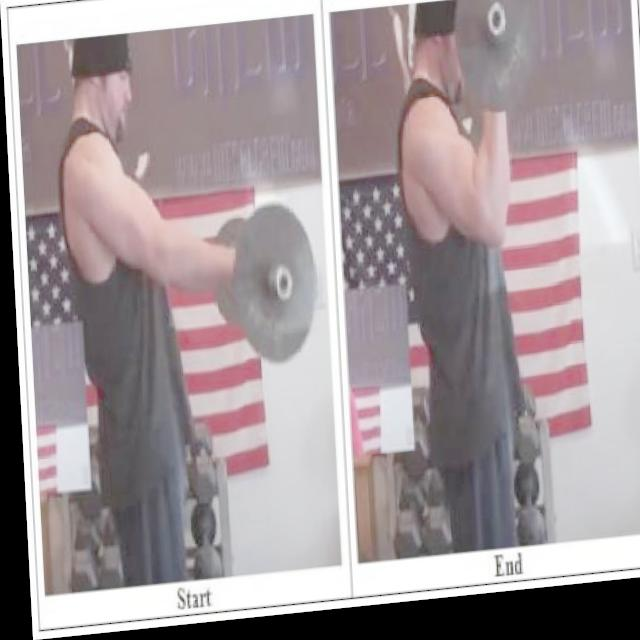barbell: (221, 206, 316, 377), (448, 7, 542, 131)
